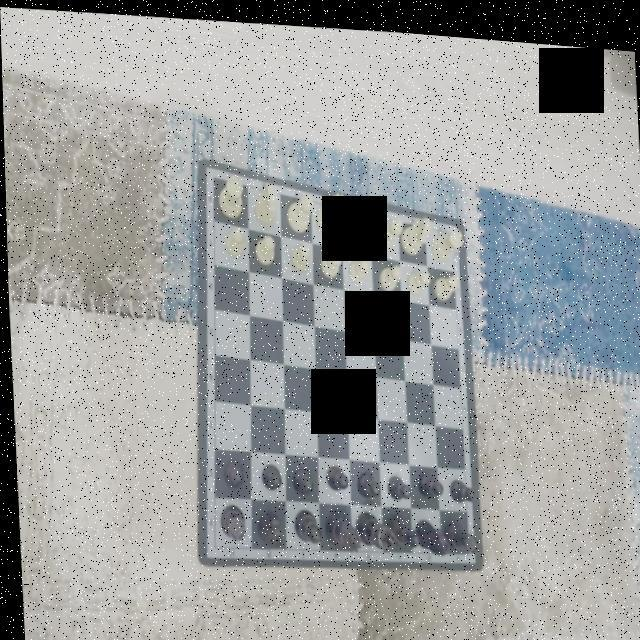chess-table-corners: (200, 527, 224, 556), (204, 162, 222, 186), (459, 535, 472, 554)
